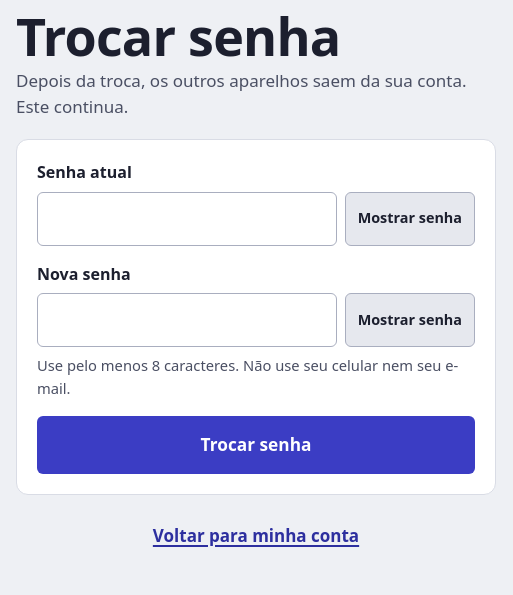
Test: /conta/trocar-senha › 422 senha-nao-permitida: erro no campo da nova senha
In the password field labelled "Senha atual": {"x": 187, "y": 218} x1=37 y1=192 x2=337 y2=246, type "Casa-Azul-2026"
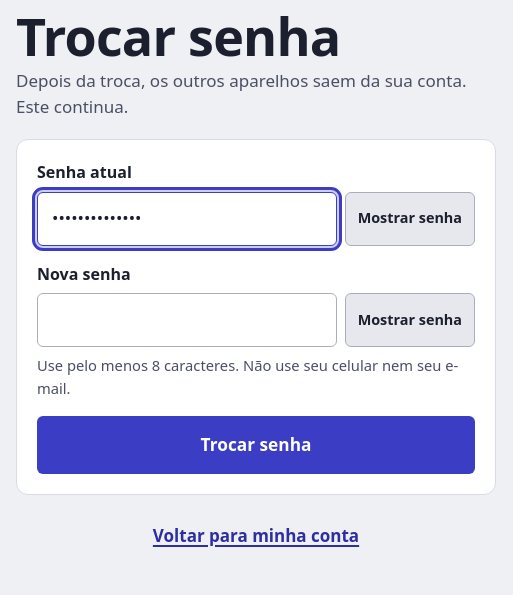
In the password field labelled "Nova senha": {"x": 187, "y": 320} x1=37 y1=293 x2=337 y2=347, type "Casa-Verde-2026"
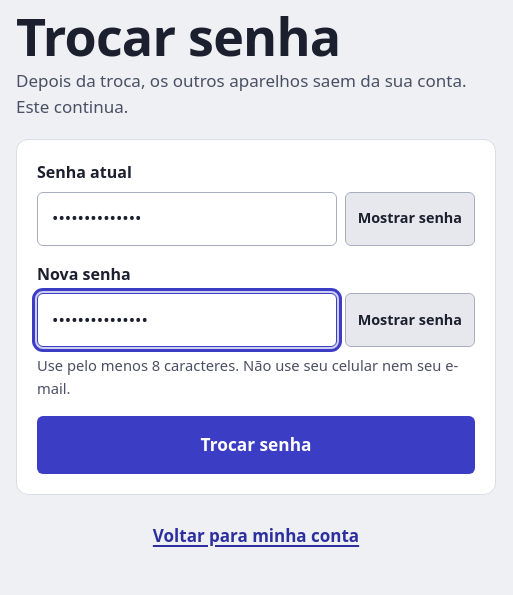
Click the button "Trocar senha": {"x": 256, "y": 445} x1=37 y1=416 x2=475 y2=474
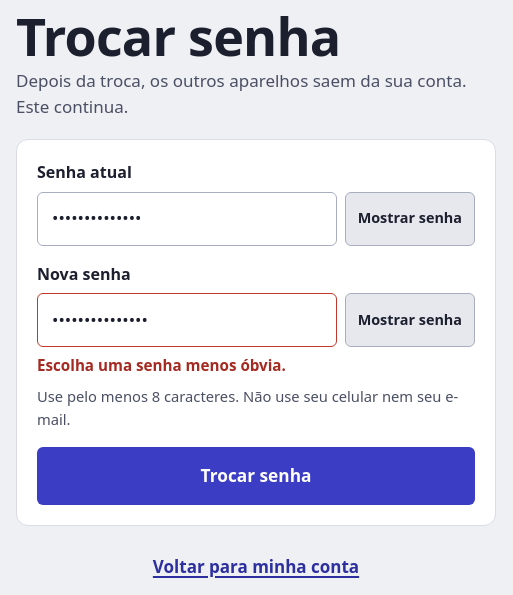
Now the text "Escolha uma senha menos óbvia." is shown, box x1=37 y1=355 x2=286 y2=375
